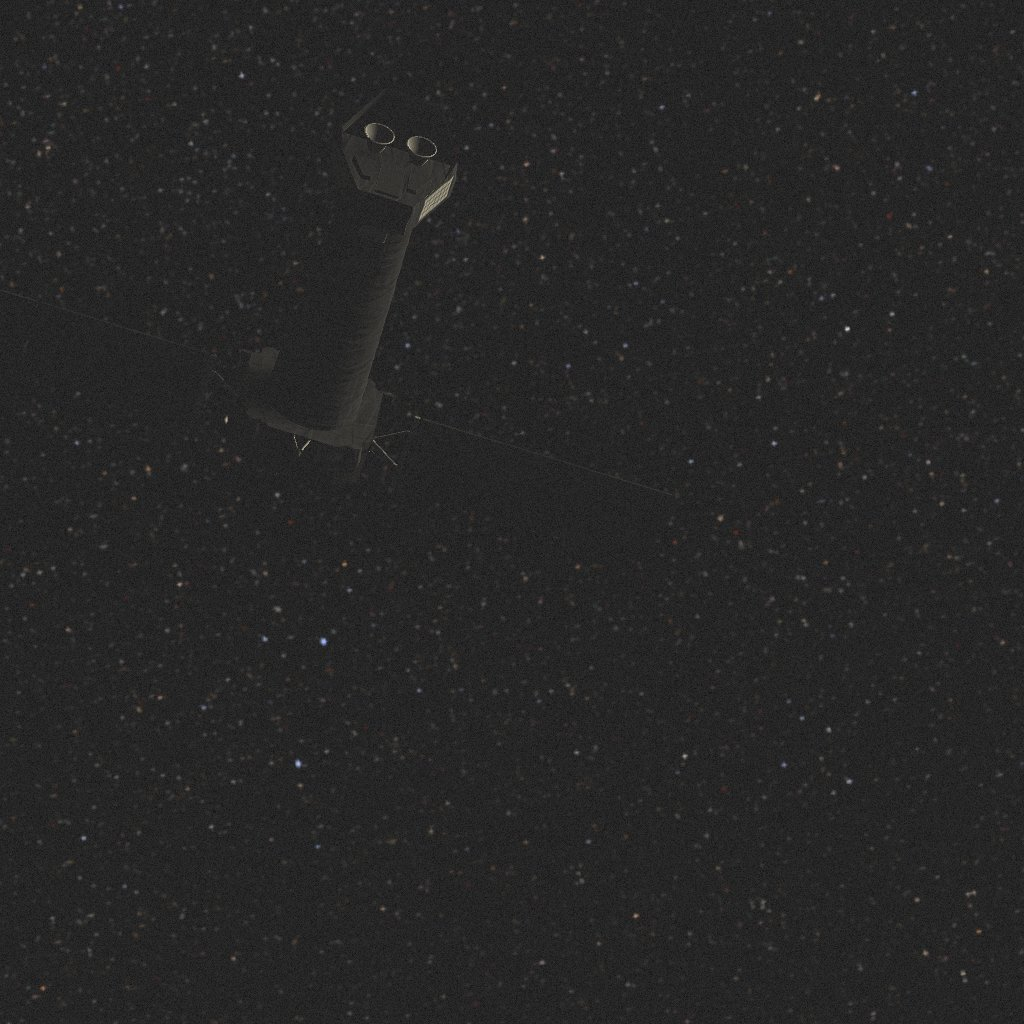xmm_newton: (0, 88, 673, 564)
